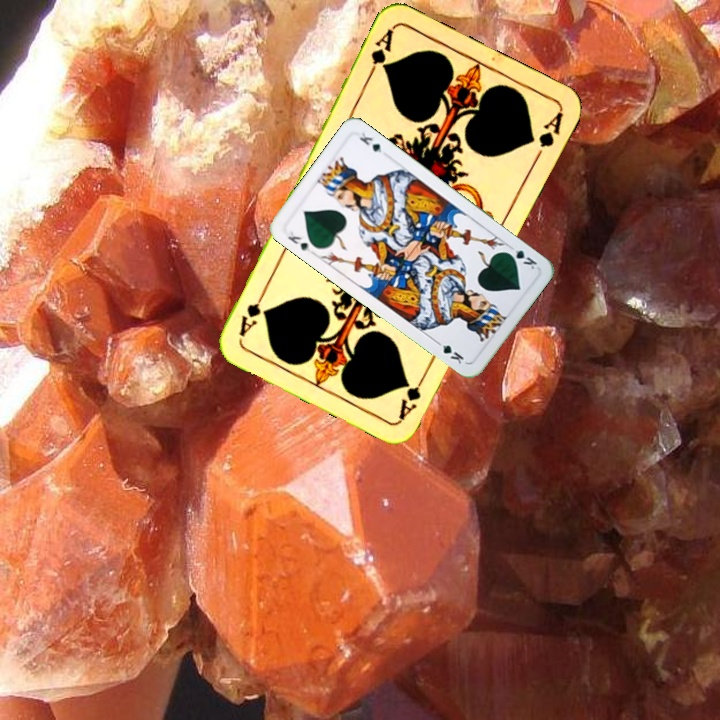GA: (395, 367, 430, 422), (364, 24, 396, 80)
GK: (502, 244, 540, 272), (283, 226, 313, 254)
